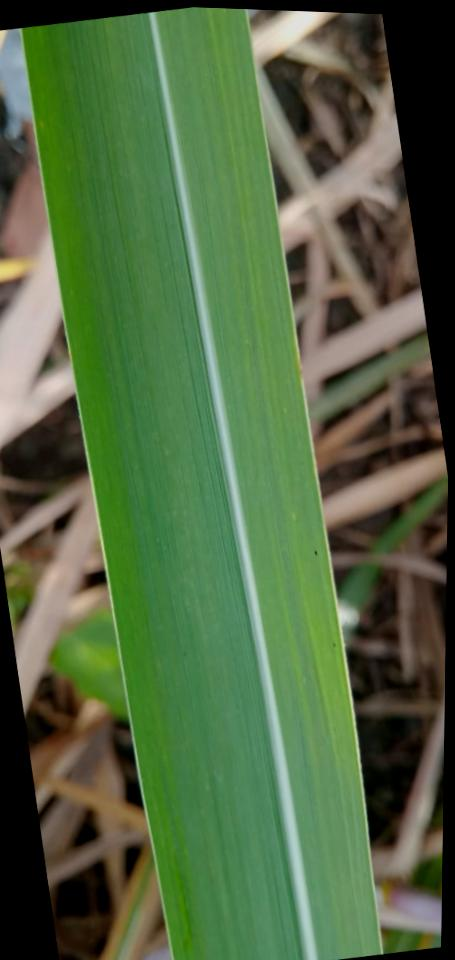Healthy: (22, 7, 380, 960)
